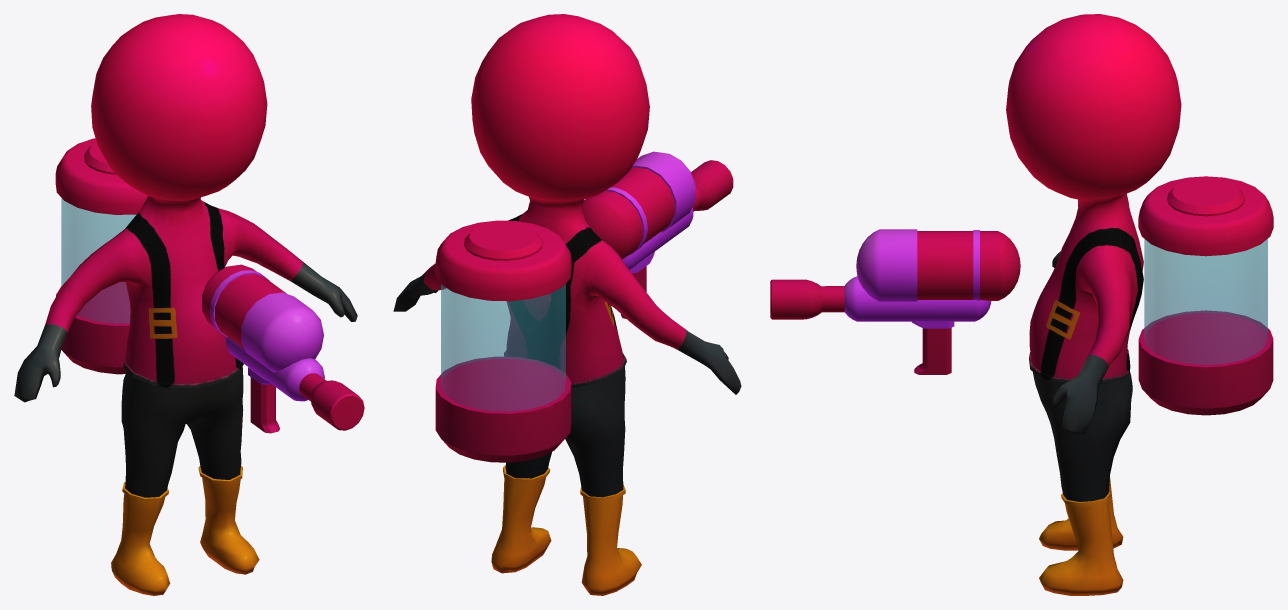
Rendered from Player_01.fbx.
3 views of the same model, side by side, from view 1: azimuth 30°, elevation 25°; view 2: azimuth 150°, elevation 25°; view 3: azimuth 270°, elevation 25° (orthographic).
Parts seen in each view (by area): view 1: Player_01, Gun_01, Tank_01; view 2: Player_01, Tank_01, Gun_01; view 3: Player_01, Tank_01, Gun_01.
Part boxes in pixels (x1,y1,x2,y2): Player_01: [14, 14, 357, 595]; Gun_01: [202, 264, 364, 433]; Tank_01: [55, 138, 147, 374]; Player_01: [393, 14, 741, 595]; Tank_01: [435, 220, 571, 462]; Gun_01: [582, 151, 733, 318]; Player_01: [1006, 14, 1181, 595]; Tank_01: [1138, 176, 1273, 415]; Gun_01: [770, 229, 1020, 374].
Bounding box in the file's own units: 359 × 551 × 463.
Materials: 3 (3 with a texture image).
